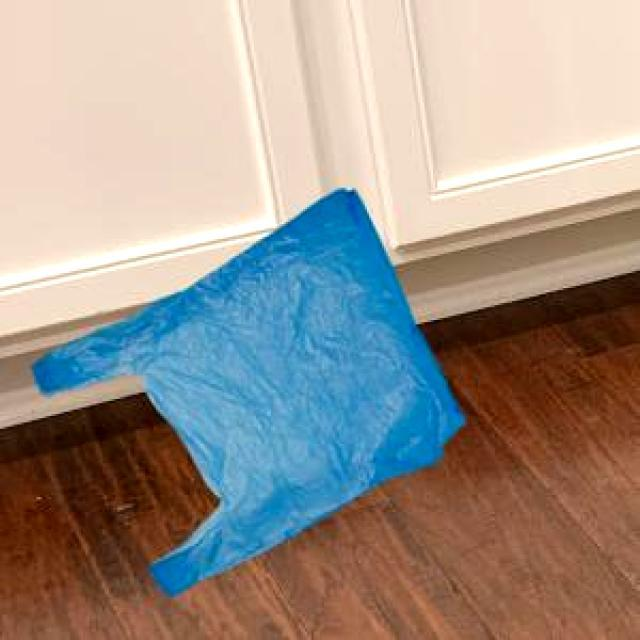Plastic_Bag: (29, 186, 462, 594)
